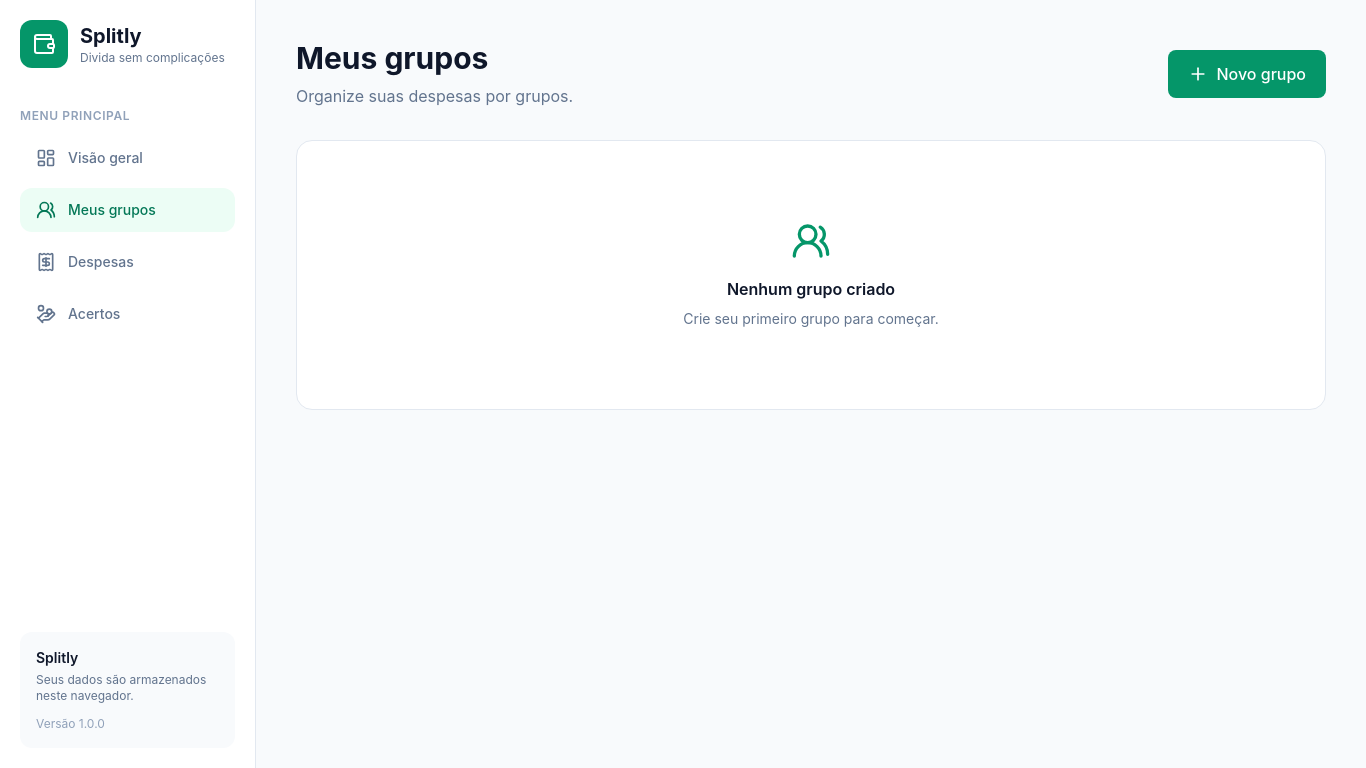
Test: Application integration › should delete a group
Click the button "Novo grupo": [1247, 74] box [1168, 50, 1326, 98]
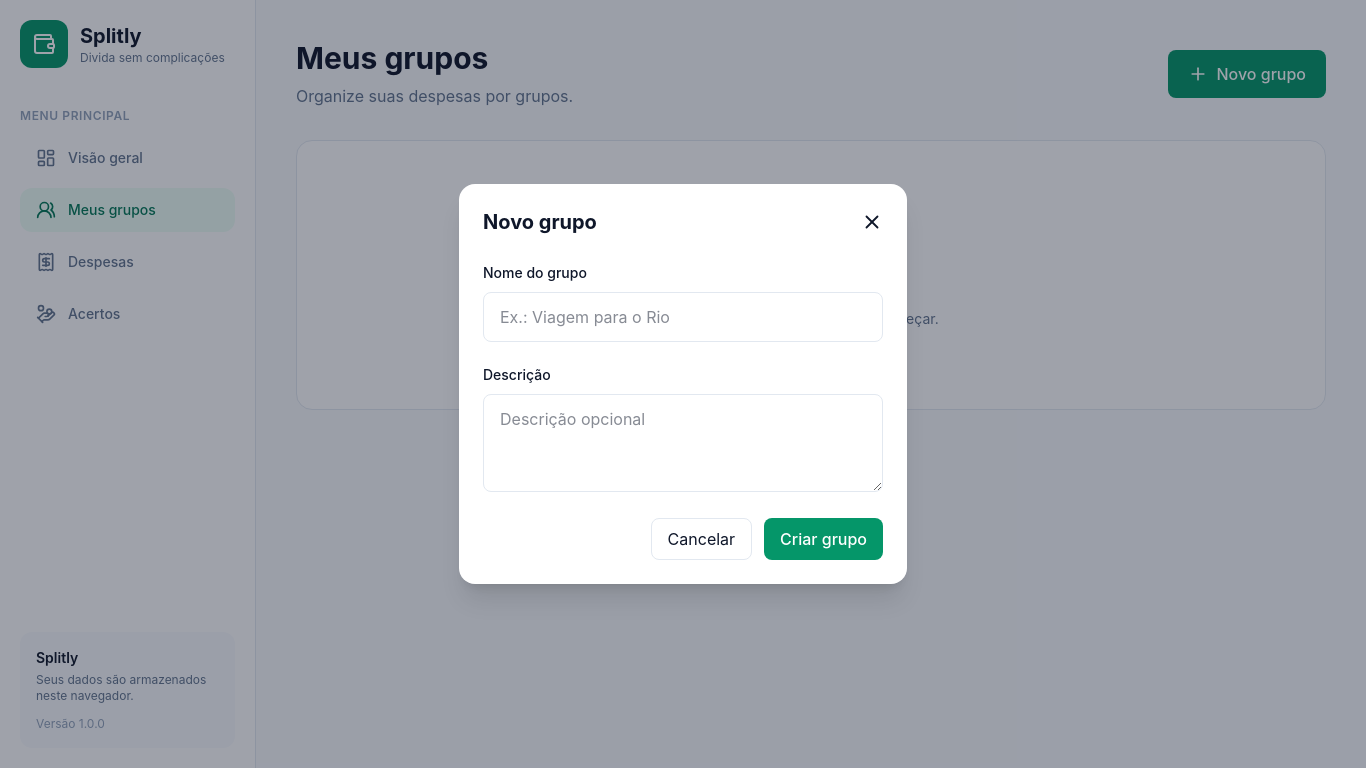
In the field labelled "Nome do grupo": [683, 317] box [483, 292, 883, 342], type "Viagem"
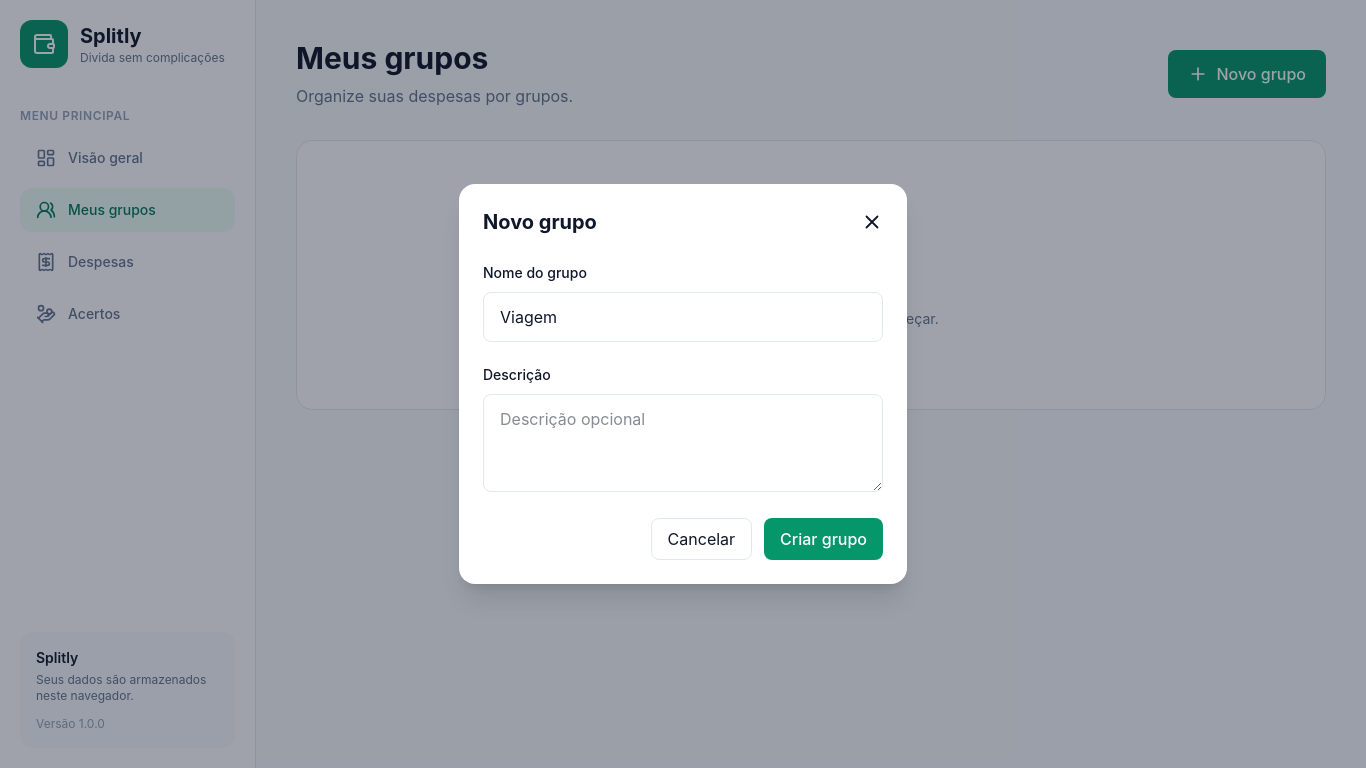
Click the button "Criar grupo": [824, 539] box [764, 518, 883, 560]
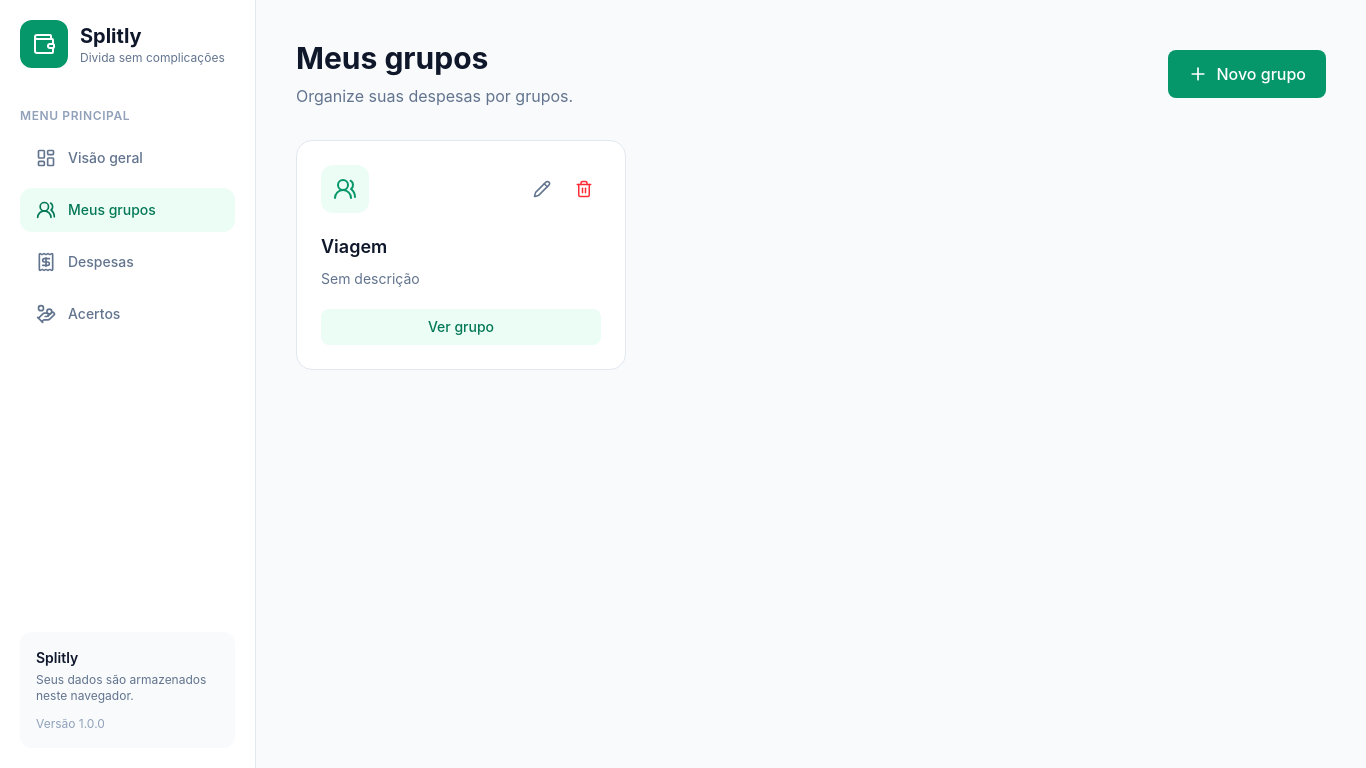
Click the button named "Excluir Viagem": [584, 189] box [567, 172, 601, 206]
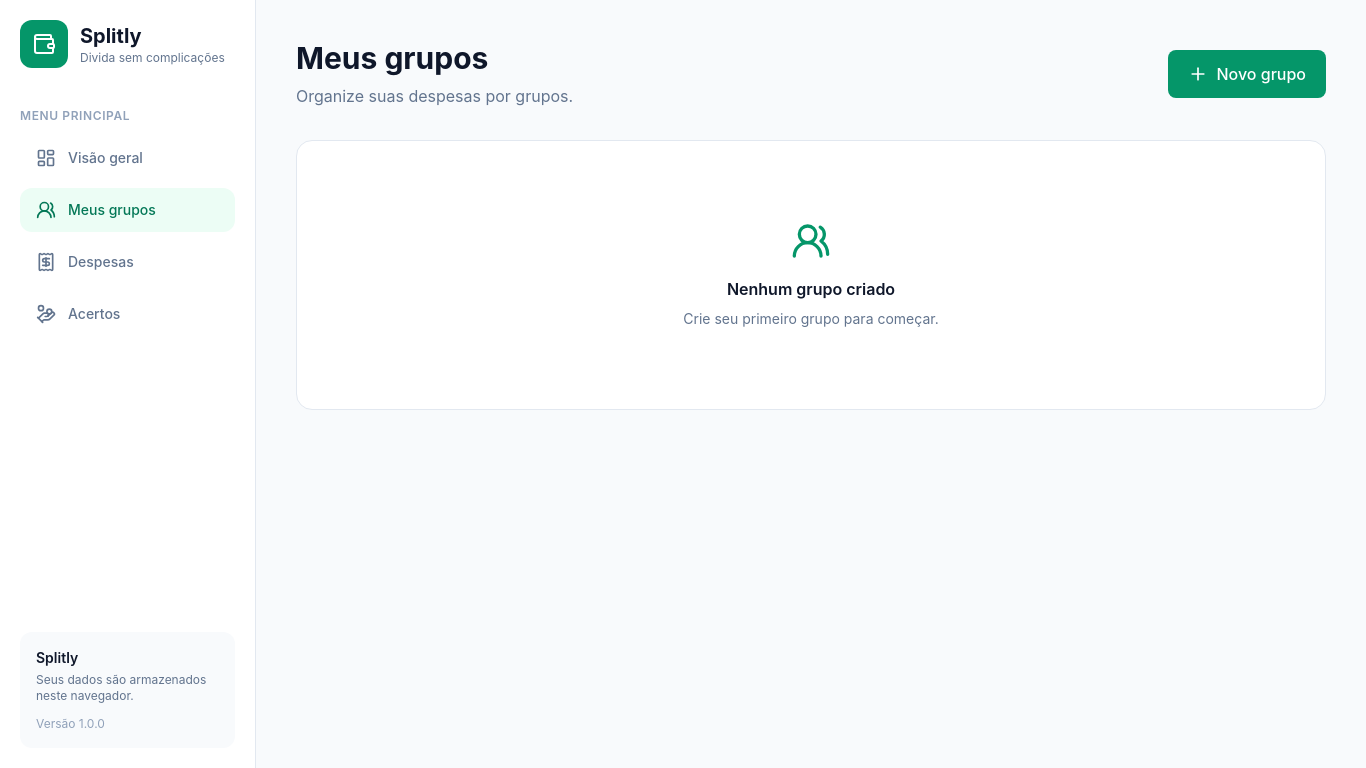
Check: the heading "Nenhum grupo criado" is shown, box [727, 279, 895, 299]
